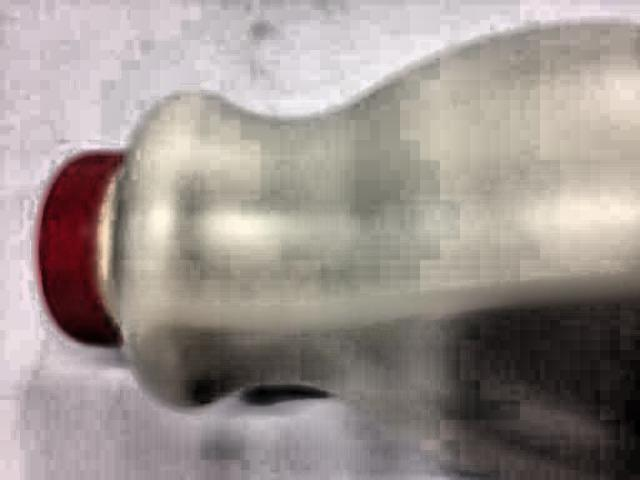Plastic: (34, 6, 640, 480)
